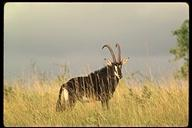antelope: (55, 42, 131, 113)
grass: (5, 68, 55, 125), (122, 81, 187, 124)
sky: (5, 3, 170, 42)
